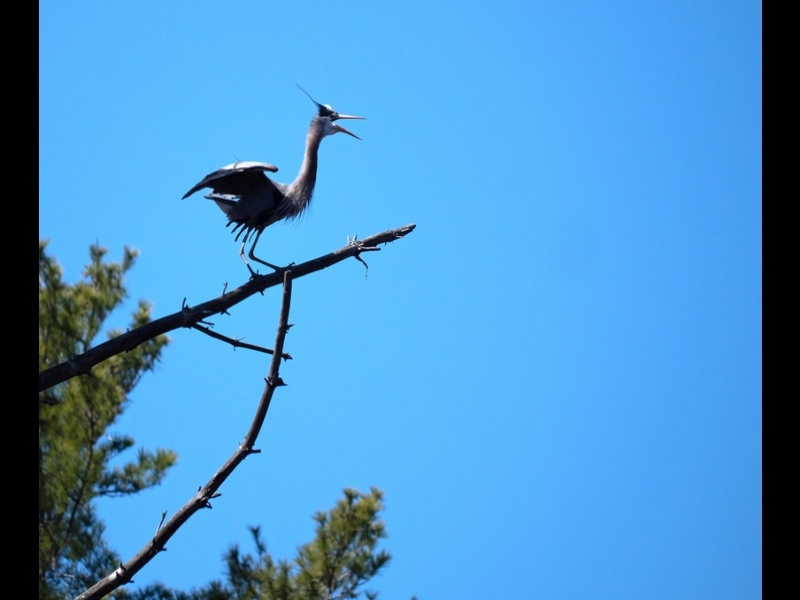heron: (185, 84, 365, 287)
